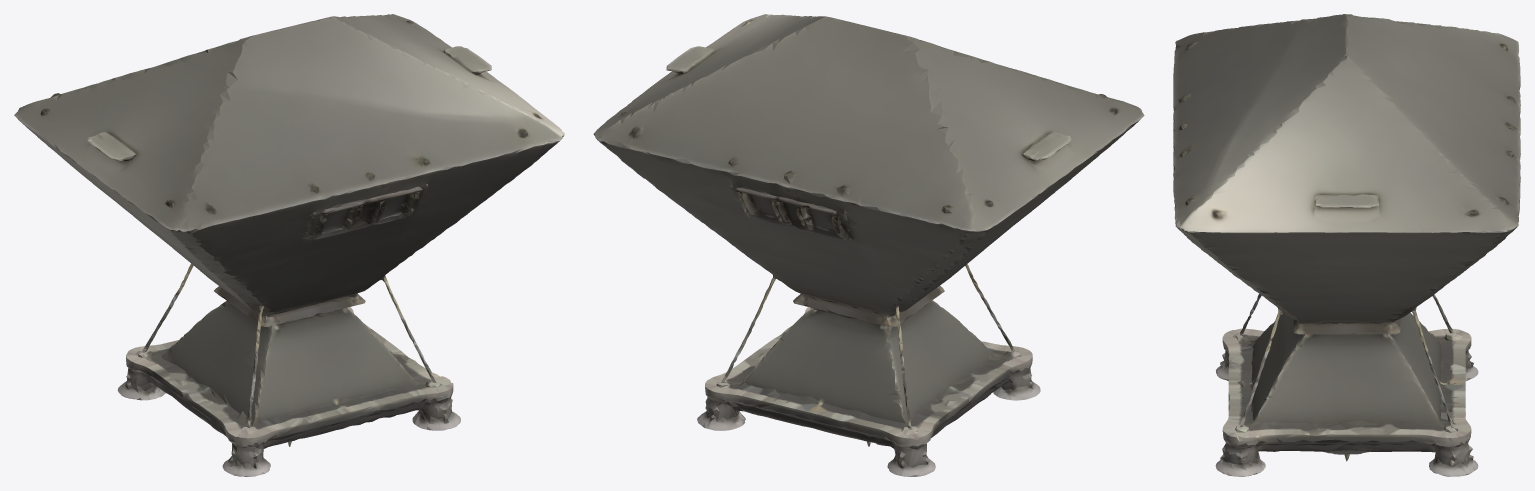
File: phantom_shield.glb
The picture shows the model from 3 angles, left to right: view 1: azimuth 30°, elevation 25°; view 2: azimuth 150°, elevation 25°; view 3: azimuth 270°, elevation 25°; orthographic projection.
Parts seen in each view (by area): view 1: phantom_shield; view 2: phantom_shield; view 3: phantom_shield.
Boxes of the visible parts, box(x1,y1,x2,y2) form: phantom_shield: box(14, 14, 564, 476); phantom_shield: box(593, 14, 1144, 476); phantom_shield: box(1173, 14, 1520, 476).
Bounding box in the file's own units: 1.9 × 1.9 × 1.4.
Materials: 1 (1 with a texture image).
